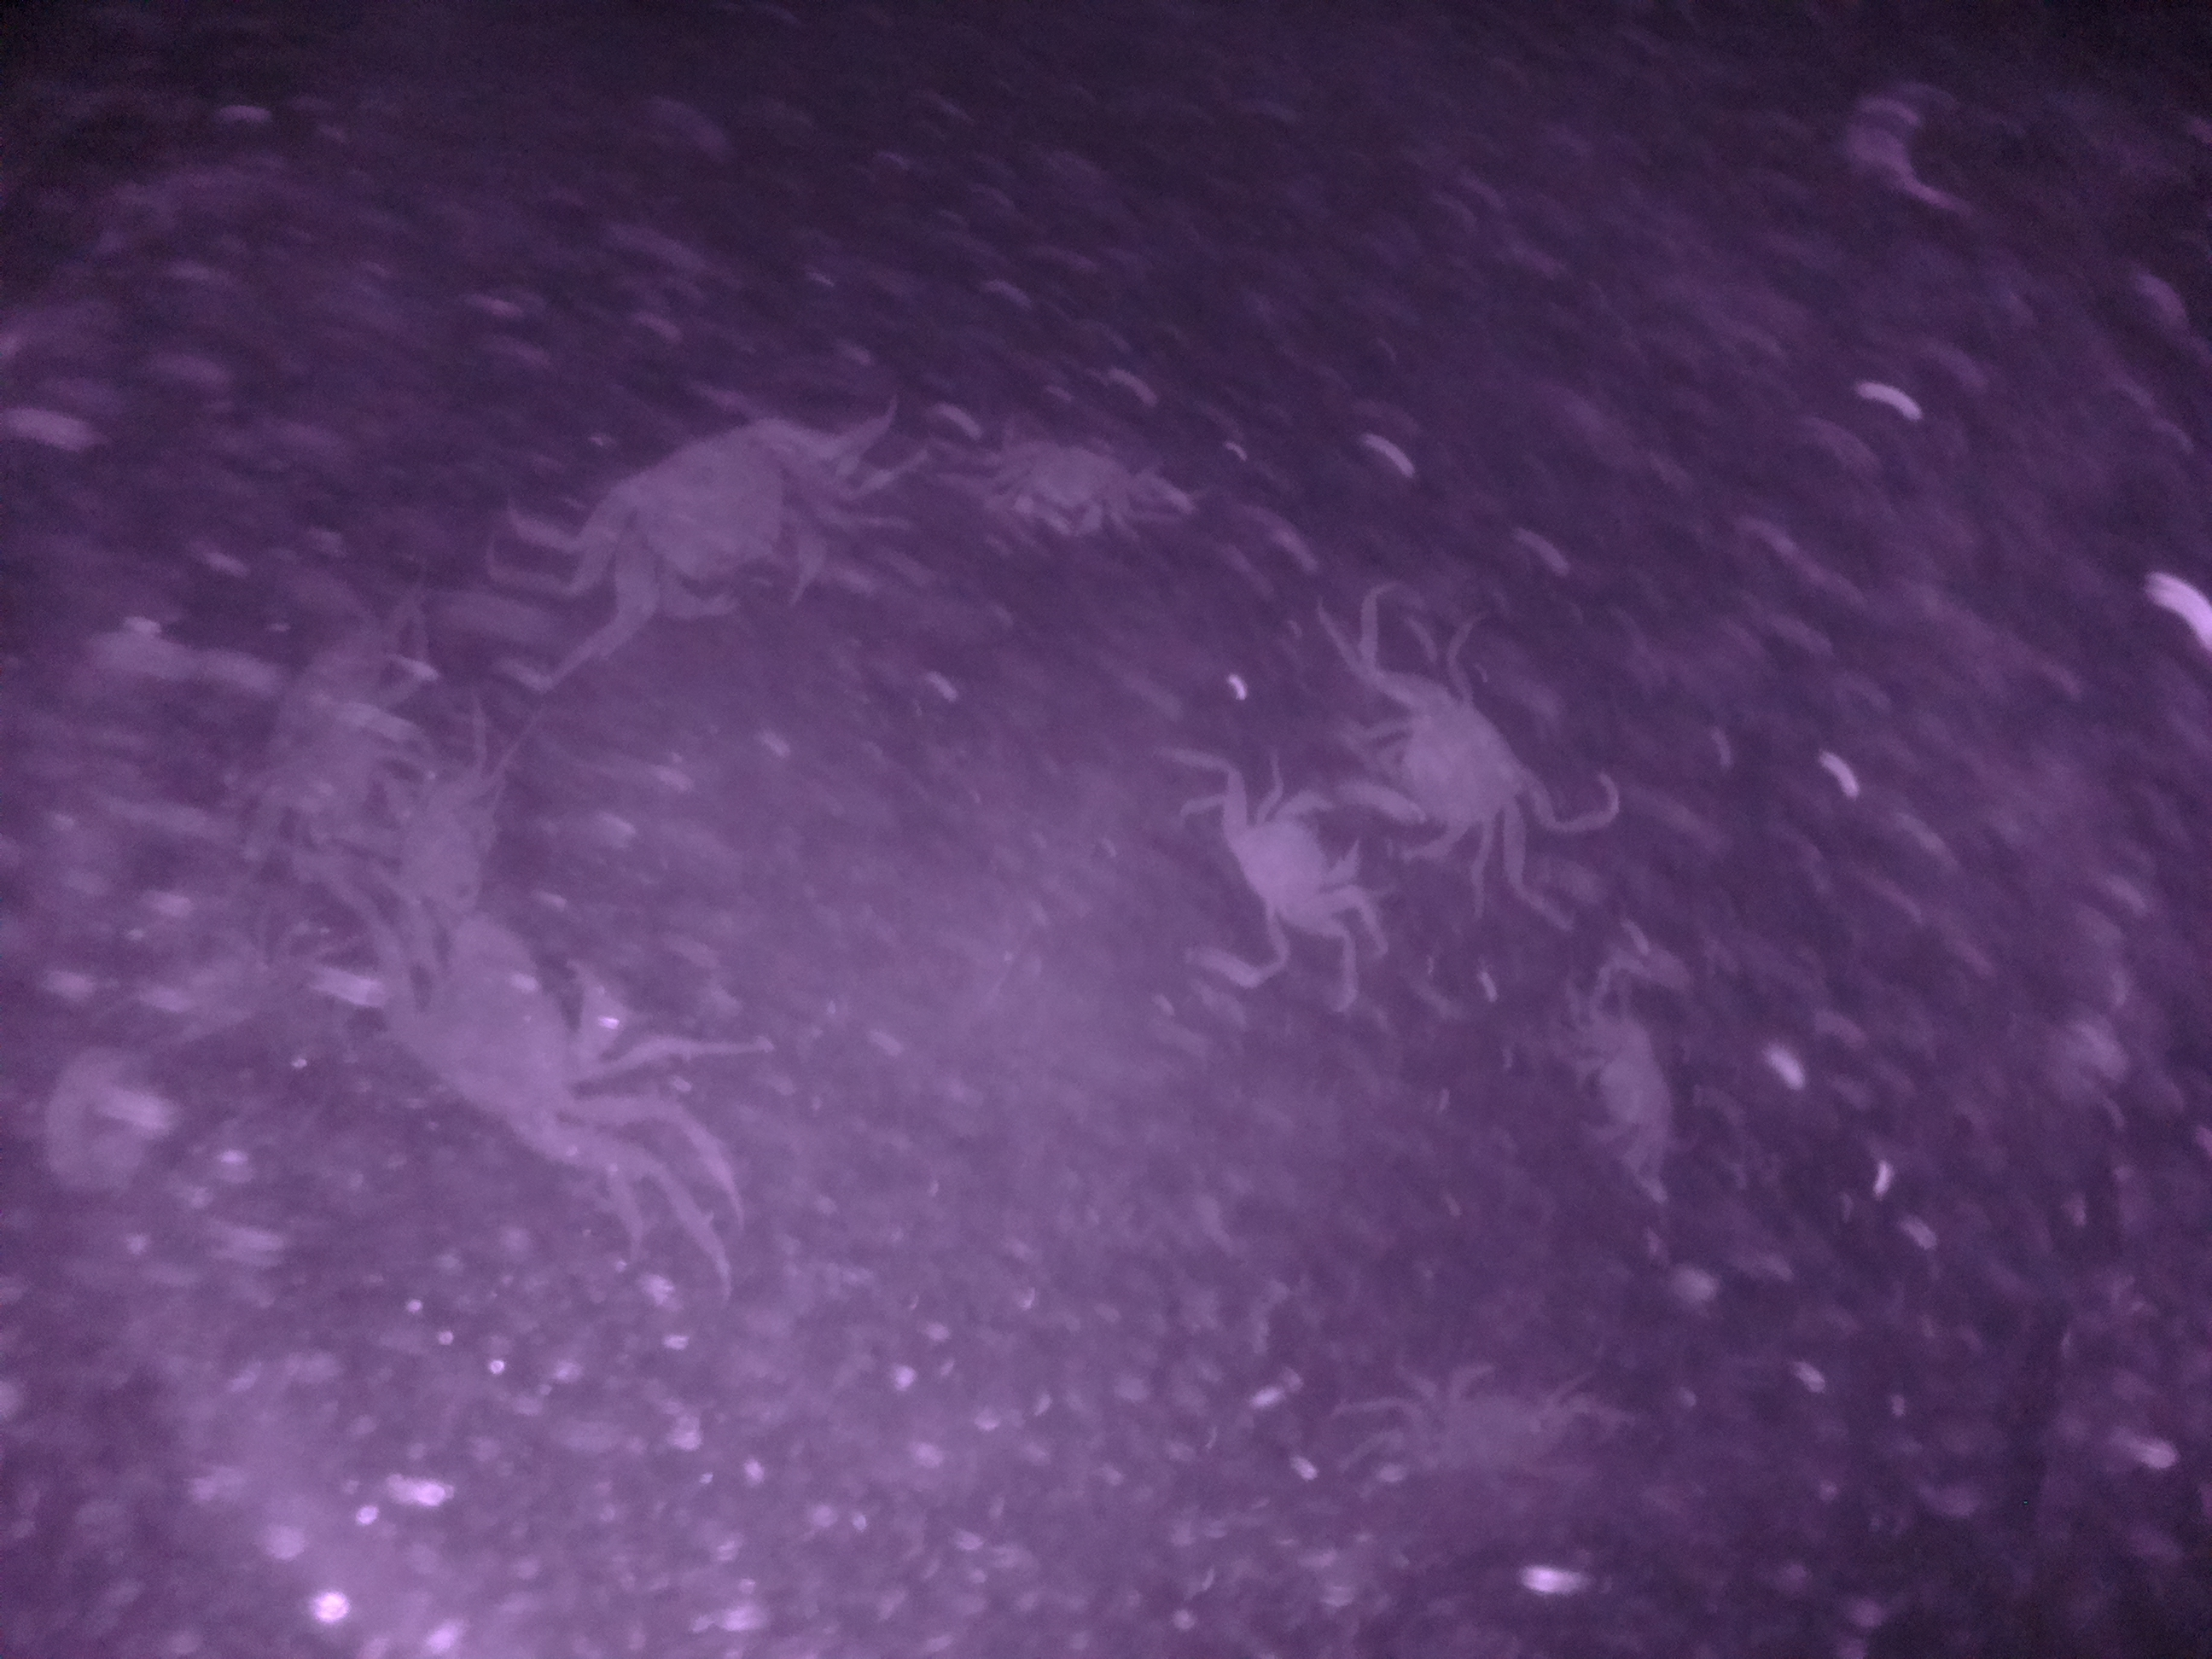Crab: (587, 413, 845, 643), (1193, 788, 1376, 941), (989, 423, 1155, 549)
